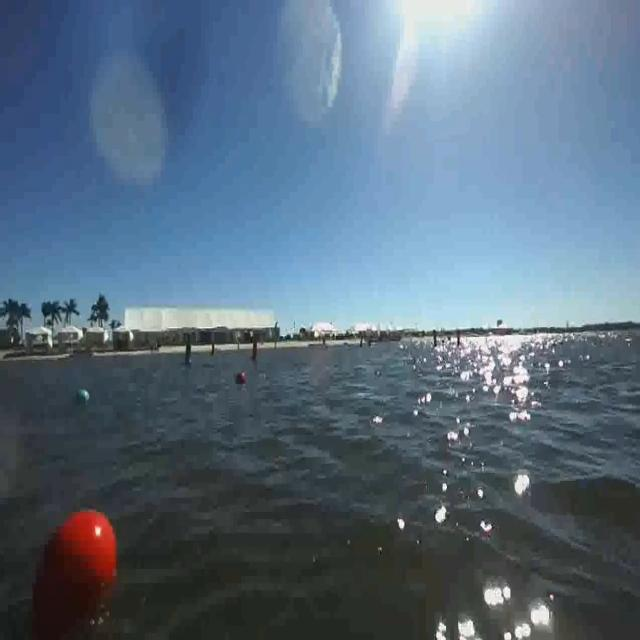green-buoy: (74, 390, 88, 404)
green-column-buoy: (182, 335, 193, 367)
red-buoy: (22, 505, 119, 640), (236, 370, 247, 388)
